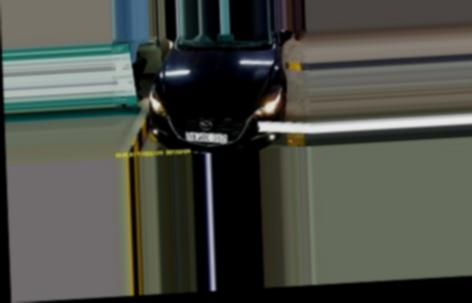License_Plate: (184, 129, 231, 147)
